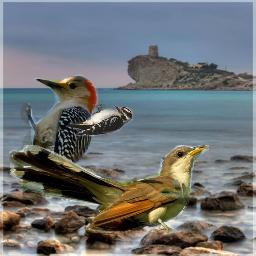Cuckoo: (9, 145, 209, 234)
Woodpecker: (18, 69, 114, 200), (64, 104, 137, 138)
